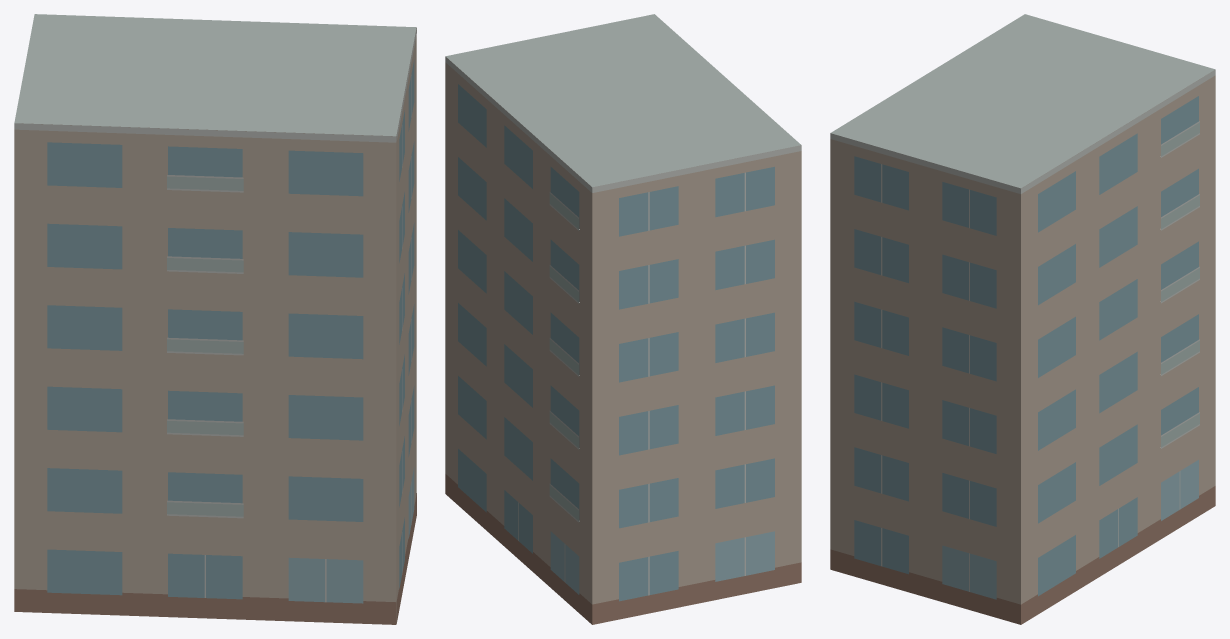
File: survey-upis-32757151.glb
3 views of the same model, side by side, from view 1: azimuth 30°, elevation 25°; view 2: azimuth 150°, elevation 25°; view 3: azimuth 270°, elevation 25° (orthographic). The views are drawn at different scales.
Parts seen in each view (by area): view 1: survey-upis-32757151.tmp; view 2: survey-upis-32757151.tmp; view 3: survey-upis-32757151.tmp.
Part boxes in pixels (x1=…): survey-upis-32757151.tmp: x1=14, y1=14, x2=416, y2=624; survey-upis-32757151.tmp: x1=445, y1=14, x2=801, y2=624; survey-upis-32757151.tmp: x1=830, y1=14, x2=1215, y2=624.
Size of the model in its own units: 15.69 by 18.3 by 14.65.
